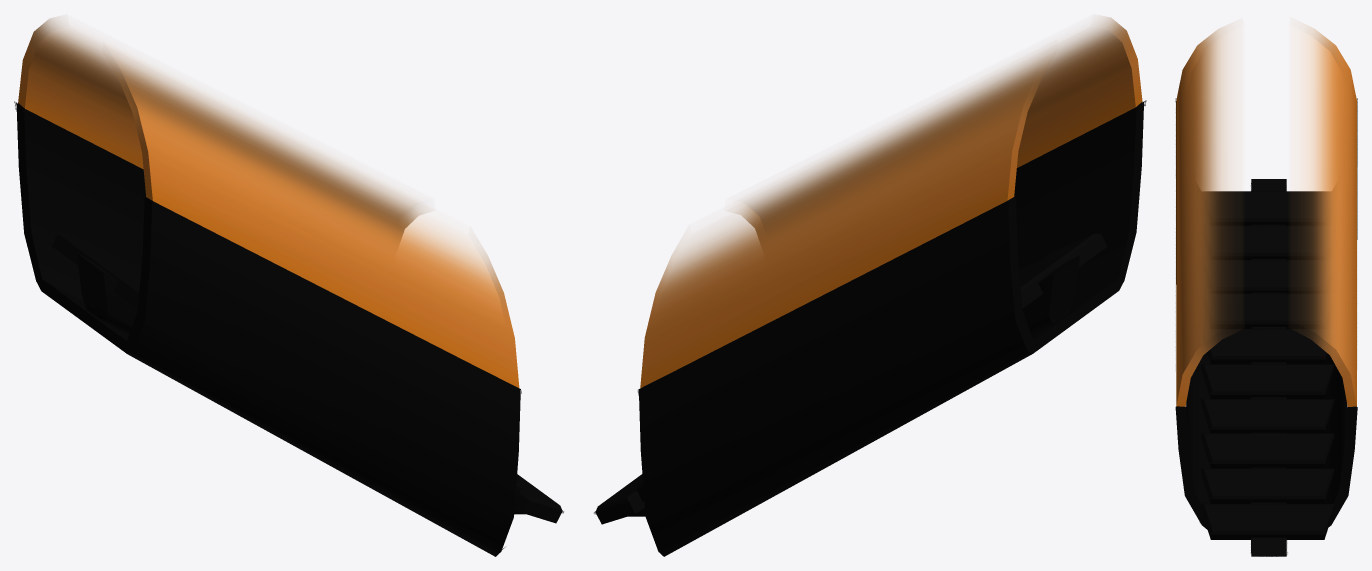
Rendered from pm-stairs.glb.
3 views of the same model, side by side, from view 1: azimuth 30°, elevation 25°; view 2: azimuth 150°, elevation 25°; view 3: azimuth 270°, elevation 25° (orthographic). The views are drawn at different scales.
Visible parts, largest first — view 1: Stairs; view 2: Stairs; view 3: Stairs.
Part boxes in pixels (x1=…): Stairs: x1=14, y1=17, x2=563, y2=556; Stairs: x1=594, y1=17, x2=1146, y2=556; Stairs: x1=1175, y1=26, x2=1357, y2=556.
Size of the model in its own units: 6.25 by 7.72 by 3.22.
Materials: 3 (2 with a texture image).
